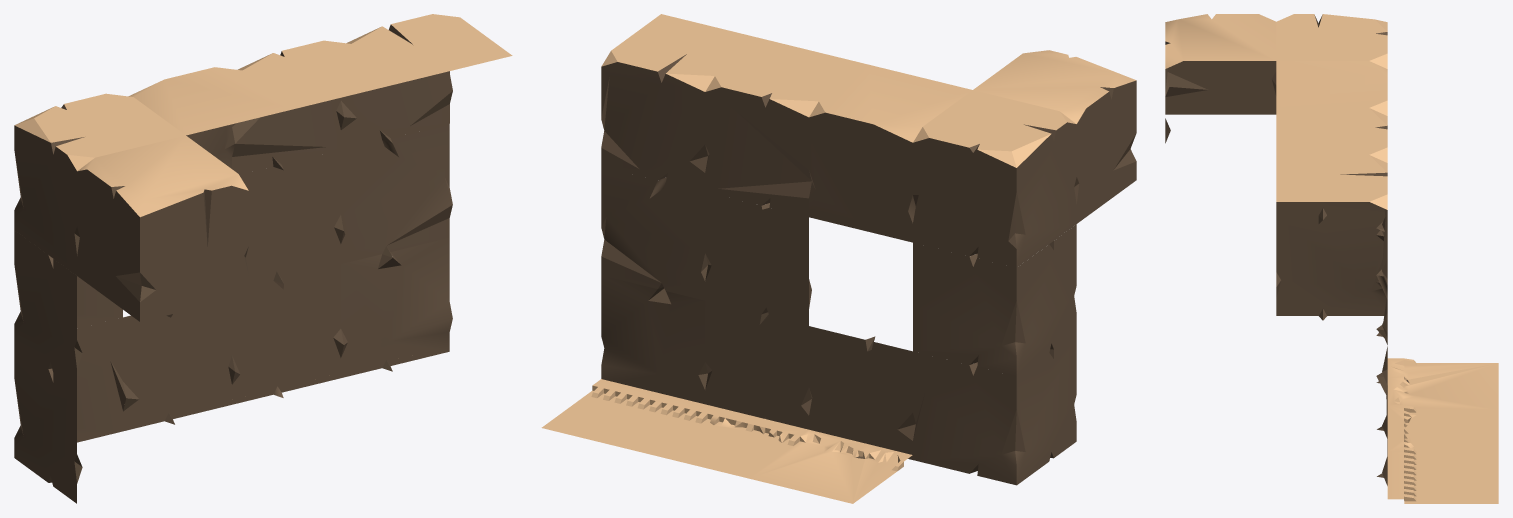
The model's file is Modular_Temple_Assets.FBX.
3 renders of one model, left to right at view 1: azimuth 30°, elevation 25°; view 2: azimuth 150°, elevation 25°; view 3: azimuth 270°, elevation 25°, orthographic. The views are drawn at different scales.
Visible parts, largest first — view 1: Temple_Corner_04, Temple_Corner_03, Temple_Wall_00, Temple_Wall_04, Temple_Corner_06, Temple_Wall_02, Temple_Corner_00, Temple_Corner_01, Temple_Wall_01, Temple_Wall_03, Temple_Corner_05, Temple_Corner_02; view 2: Temple_Corner_03, Temple_Corner_05, Temple_Corner_06, Temple_Corner_02, Temple_Corner_01, Temple_Corner_00, Temple_Corner_04, Temple_Wall_04, Temple_Wall_03, Temple_Wall_00, Temple_Wall_01, Temple_Wall_02 (+3 smaller); view 3: Temple_Corner_04, Temple_Corner_06, Temple_Corner_00, Temple_Floor_02, Temple_Corner_01, Temple_Floor_00, Temple_Floor_01, Temple_Corner_02, Temple_Corner_03, Temple_Corner_05, Temple_Wall_00, Temple_Wall_04.
Part boxes in pixels (bbox=[...]): Temple_Corner_04: bbox=[77, 135, 248, 321]; Temple_Corner_03: bbox=[14, 93, 185, 275]; Temple_Wall_00: bbox=[341, 238, 452, 377]; Temple_Wall_04: bbox=[341, 124, 452, 263]; Temple_Corner_06: bbox=[14, 317, 126, 503]; Temple_Wall_02: bbox=[232, 264, 343, 404]; Temple_Corner_00: bbox=[341, 14, 512, 150]; Temple_Corner_01: bbox=[232, 40, 403, 174]; Temple_Wall_01: bbox=[123, 299, 234, 431]; Temple_Wall_03: bbox=[239, 150, 343, 286]; Temple_Corner_05: bbox=[14, 230, 122, 389]; Temple_Corner_02: bbox=[128, 67, 294, 168]; Temple_Corner_03: bbox=[913, 90, 1076, 267]; Temple_Corner_05: bbox=[913, 224, 1076, 376]; Temple_Corner_06: bbox=[913, 333, 1076, 485]; Temple_Corner_02: bbox=[809, 64, 972, 242]; Temple_Corner_01: bbox=[705, 39, 868, 217]; Temple_Corner_00: bbox=[601, 14, 764, 191]; Temple_Corner_04: bbox=[973, 50, 1136, 223]; Temple_Wall_04: bbox=[601, 166, 707, 300]; Temple_Wall_03: bbox=[705, 192, 811, 325]; Temple_Wall_00: bbox=[601, 275, 707, 404]; Temple_Wall_01: bbox=[809, 326, 915, 459]; Temple_Wall_02: bbox=[705, 301, 811, 429]; Temple_Corner_04: bbox=[1165, 14, 1276, 143]; Temple_Corner_06: bbox=[1276, 215, 1387, 336]; Temple_Corner_00: bbox=[1276, 155, 1387, 284]; Temple_Floor_02: bbox=[1387, 452, 1498, 503]; Temple_Corner_01: bbox=[1276, 108, 1387, 229]; Temple_Floor_00: bbox=[1387, 405, 1498, 456]; Temple_Floor_01: bbox=[1387, 358, 1498, 409]; Temple_Corner_02: bbox=[1276, 61, 1387, 115]; Temple_Corner_03: bbox=[1276, 14, 1387, 68]; Temple_Corner_05: bbox=[1276, 202, 1384, 236]; Temple_Wall_00: bbox=[1376, 376, 1387, 485]; Temple_Wall_04: bbox=[1376, 275, 1387, 385].
Bounding box in the file's own units: 157 × 118 × 118.
